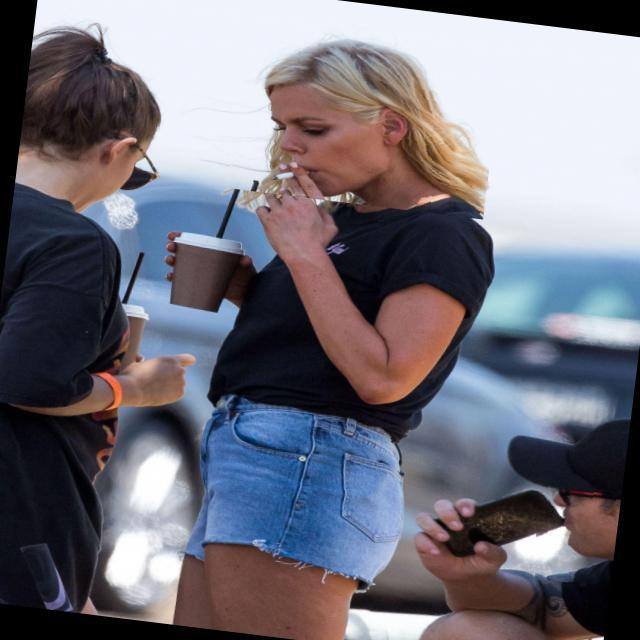cigarette: (245, 151, 301, 189)
